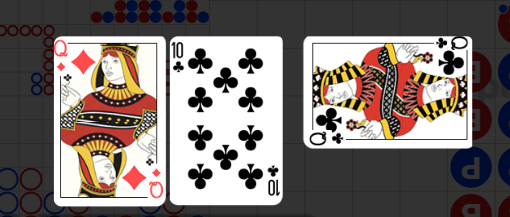10C: (265, 163, 280, 197)
JC: (434, 37, 466, 51)
QD: (66, 36, 110, 83), (133, 157, 177, 203)
